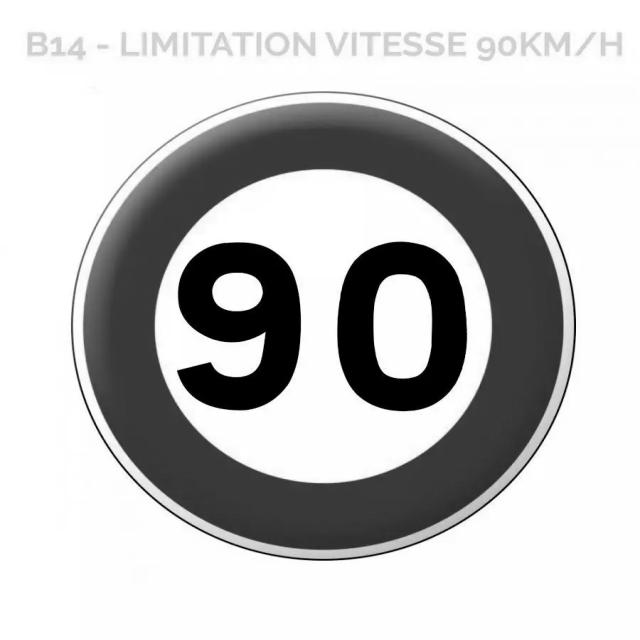speed_90: (73, 92, 576, 563)
